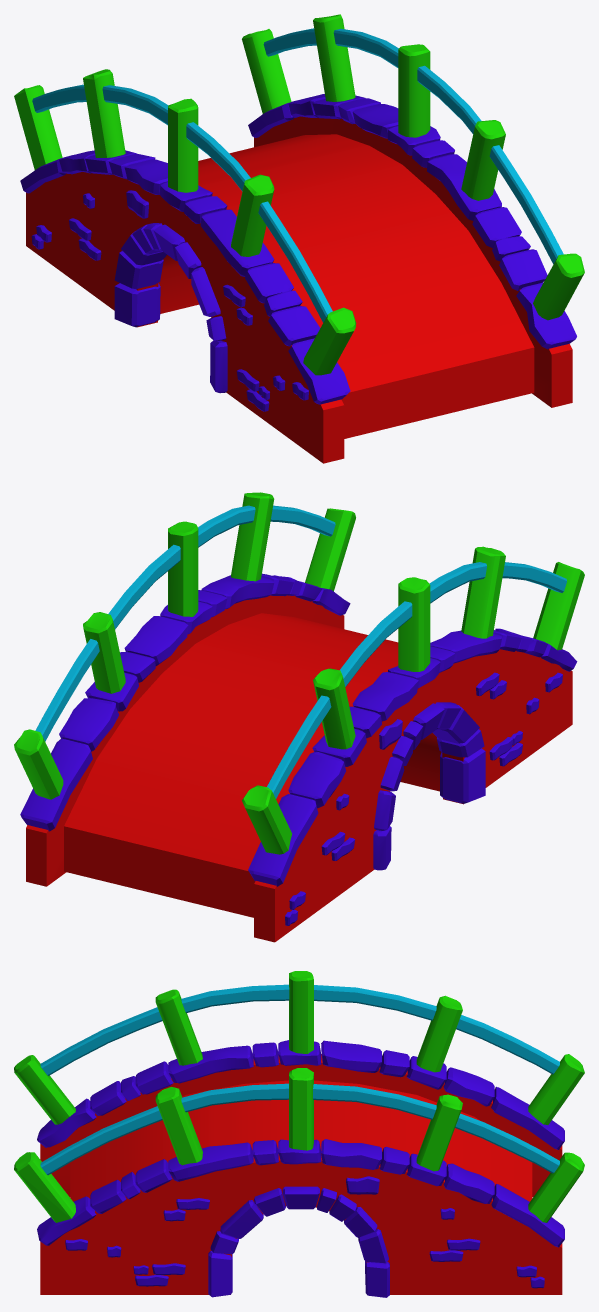
File: bridge.FBX
The picture shows the model from 3 angles, top to bottom: view 1: azimuth 30°, elevation 25°; view 2: azimuth 150°, elevation 25°; view 3: azimuth 270°, elevation 25°; orthographic projection. The views are drawn at different scales.
Parts seen in each view (by area): view 1: Box009; view 2: Box009; view 3: Box009.
Boxes of the visible parts, x1,y1,x2,y2 form: Box009: [14, 14, 584, 463]; Box009: [14, 492, 584, 942]; Box009: [14, 971, 584, 1297].
Bounding box in the file's own units: 68.67 × 60.05 × 142.
